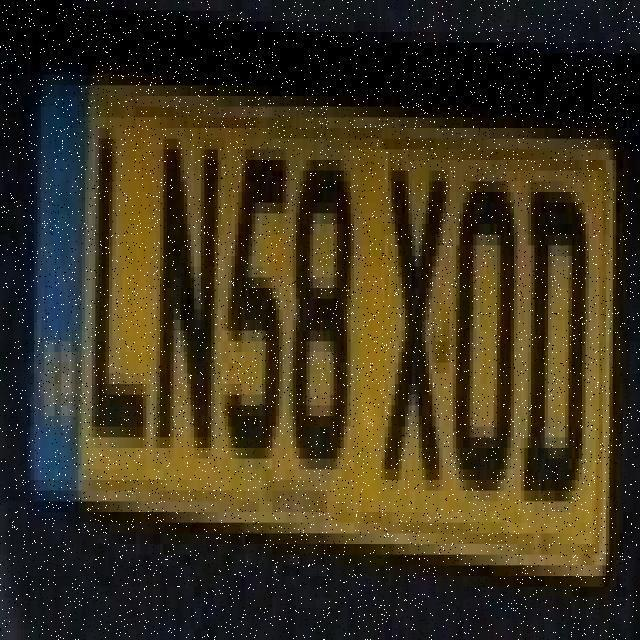LicensePlate: (15, 26, 623, 614)
